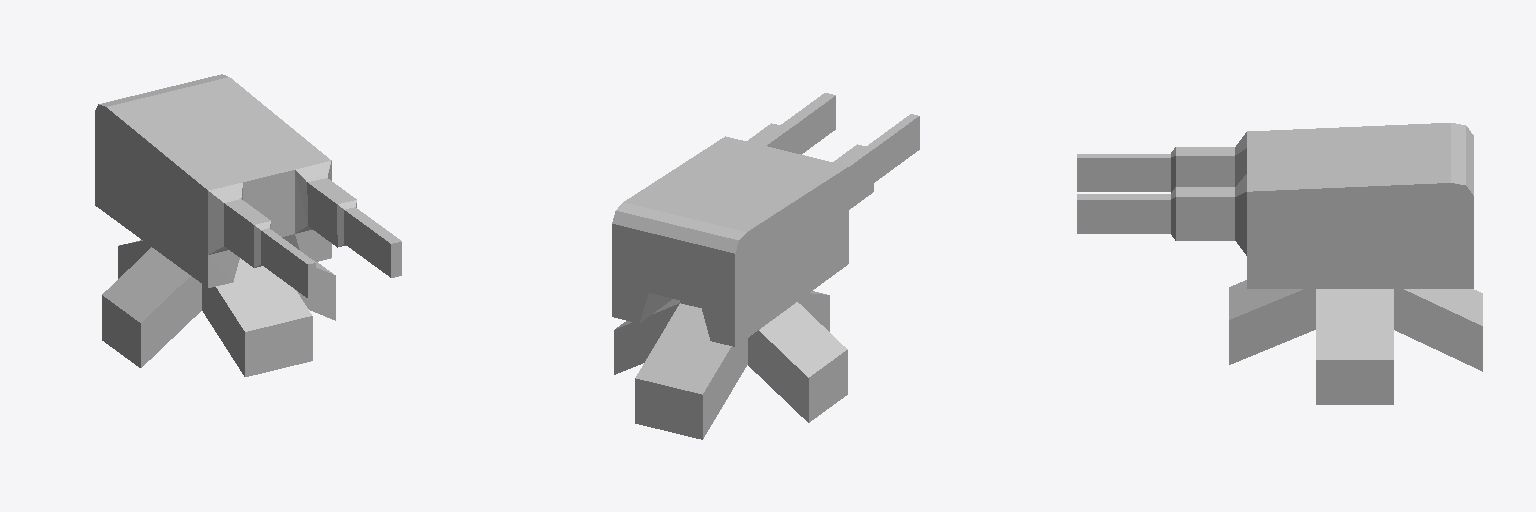
Rendered from Blockout_AA_Turret_MKIII.obj.
The picture shows the model from 3 angles: view 1: azimuth 30°, elevation 25°; view 2: azimuth 150°, elevation 25°; view 3: azimuth 270°, elevation 25°; orthographic projection.
Parts seen in each view (by area): view 1: Turret_Weapon, Turret_Platform; view 2: Turret_Weapon, Turret_Platform; view 3: Turret_Weapon, Turret_Platform.
Boxes of the visible parts, x1=… form: Turret_Weapon: x1=95, y1=74, x2=401, y2=298; Turret_Platform: x1=102, y1=240, x2=335, y2=376; Turret_Weapon: x1=612, y1=93, x2=919, y2=346; Turret_Platform: x1=614, y1=291, x2=847, y2=439; Turret_Weapon: x1=1077, y1=123, x2=1473, y2=288; Turret_Platform: x1=1229, y1=280, x2=1482, y2=404.
Bounding box in the file's own units: 2.84 × 2.85 × 5.14.